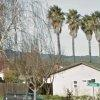Tree: (44, 7, 100, 53)
